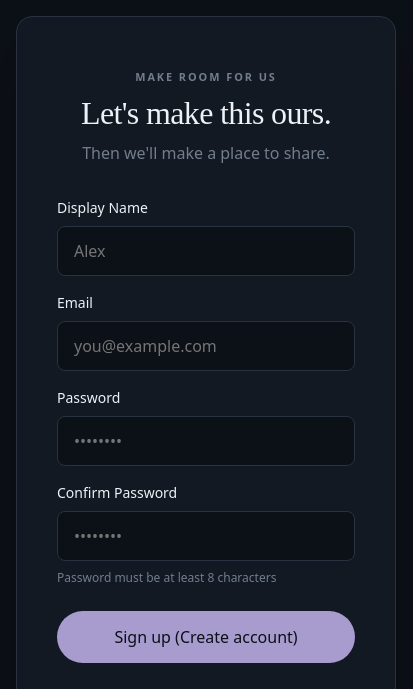
Test: Authentication Pages › Signup Page › shows error for duplicate email
Type "Test User" into the field labelled "Display Name".
click(206, 251); type("Test User")  # box [57,226,355,276]
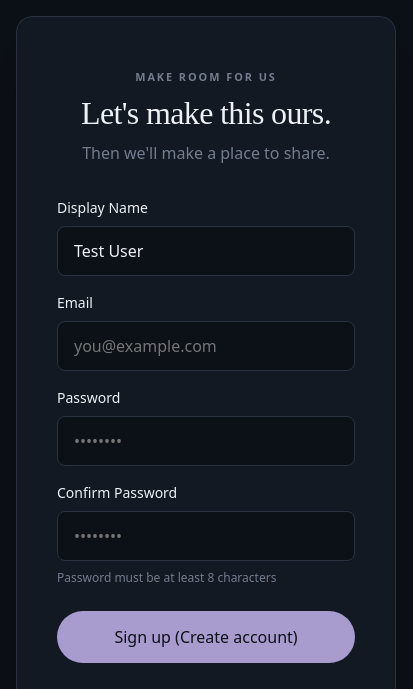
Type "existing@example.com" into the field labelled "Email".
click(206, 346); type("existing@example.com")  # box [57,321,355,371]
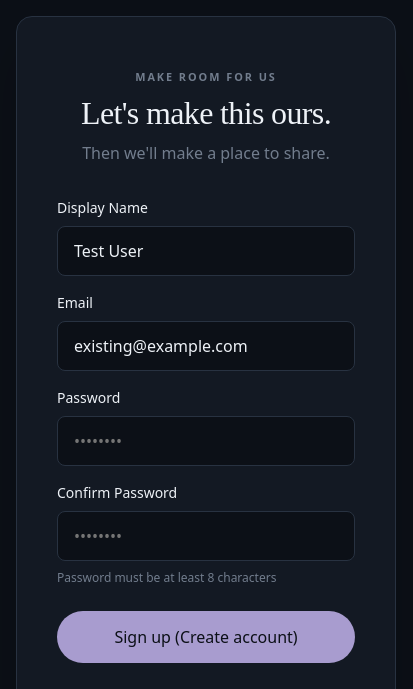
Type "password123" into the password field labelled "Password".
click(206, 441); type("password123")  # box [57,416,355,466]
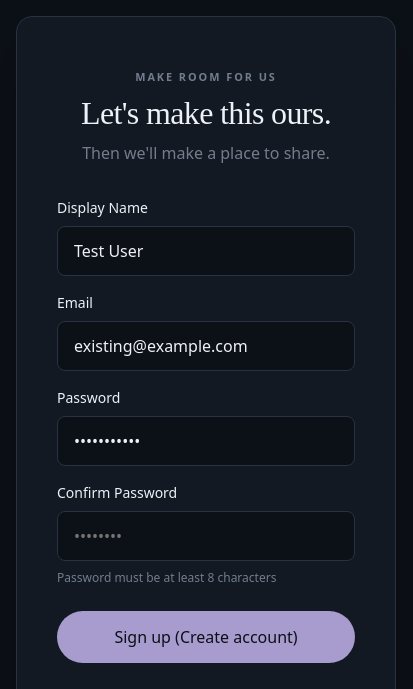
Type "password123" into the password field labelled "Confirm Password".
click(206, 536); type("password123")  # box [57,511,355,561]
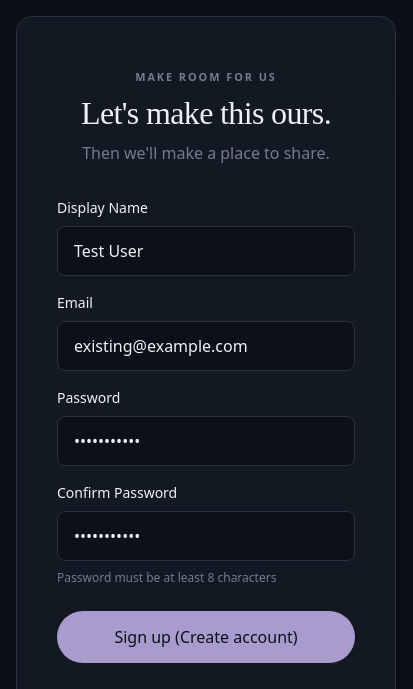
Click the button "Sign up (Create account)".
click(206, 637)  # box [57,611,355,663]
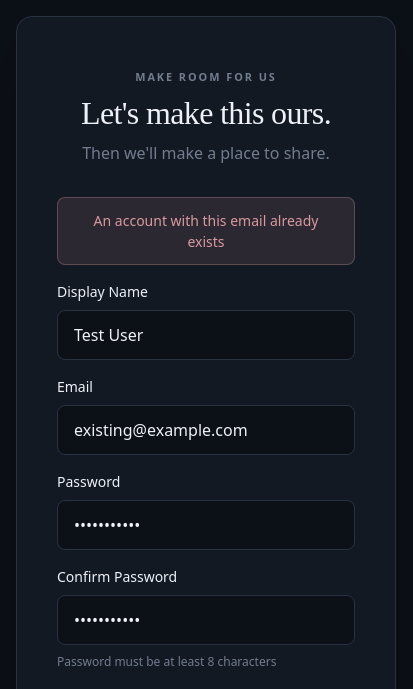
Expected: the message shows "already exists", [94,211,318,251]
